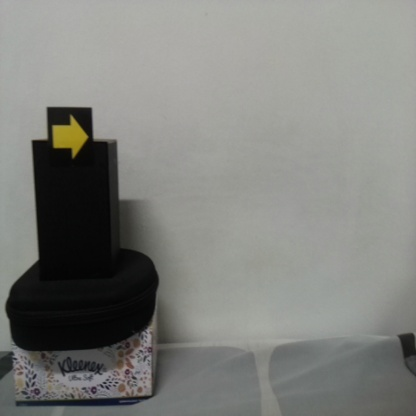id_3: (47, 108, 93, 168)
